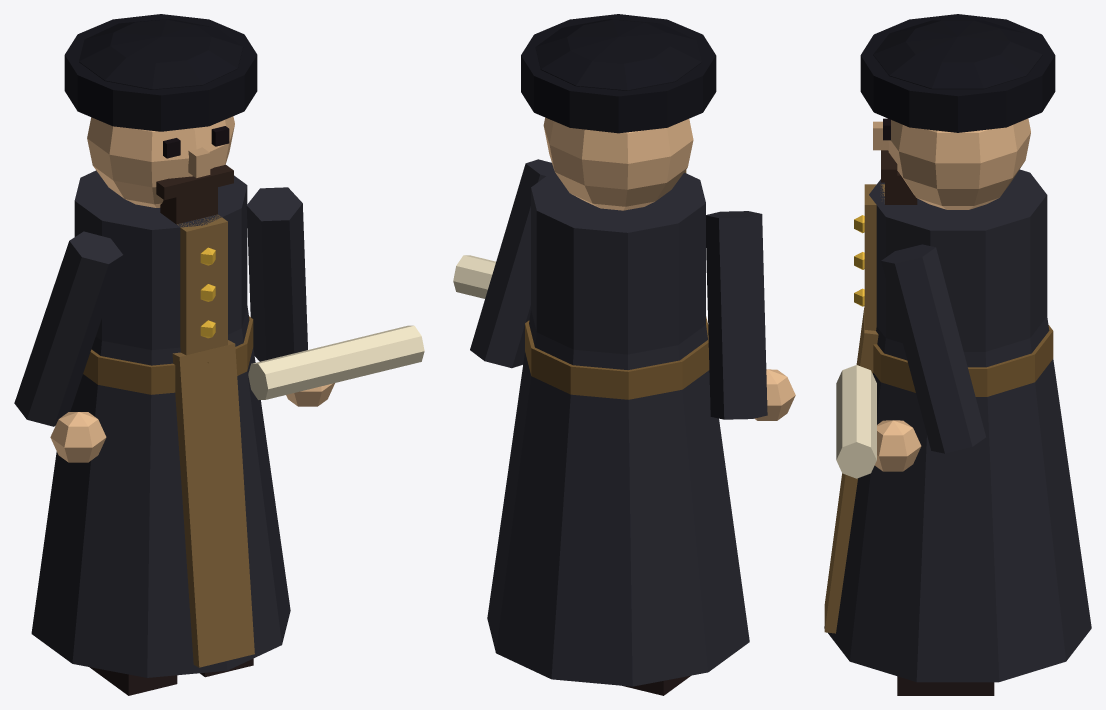
File: postac_morando.glb
The picture shows the model from 3 angles, left to right: view 1: azimuth 30°, elevation 25°; view 2: azimuth 150°, elevation 25°; view 3: azimuth 270°, elevation 25°; orthographic projection.
Parts seen in each view (by area): view 1: postac_morando; view 2: postac_morando; view 3: postac_morando.
Part boxes in pixels (<box>): postac_morando: <box>14,14,424,695</box>; postac_morando: <box>453,14,795,695</box>; postac_morando: <box>824,14,1091,695</box>.
Size of the model in its own units: 0.9896 by 1.71 by 0.66.
